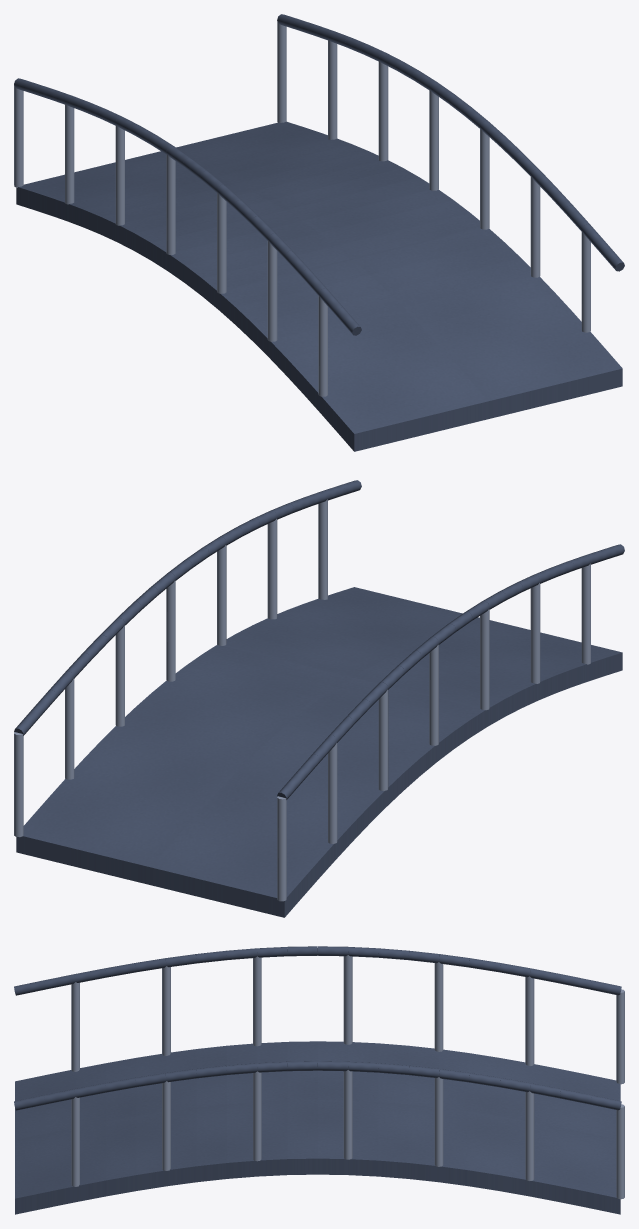
File: bridge-stone.glb
The picture shows the model from 3 angles, top to bottom: view 1: azimuth 30°, elevation 25°; view 2: azimuth 150°, elevation 25°; view 3: azimuth 270°, elevation 25°; orthographic projection. The views are drawn at different scales.
Visible parts, largest first — view 1: bridge-stone_stone, bridge-stone_edge; view 2: bridge-stone_stone, bridge-stone_edge; view 3: bridge-stone_stone, bridge-stone_edge.
Boxes of the visible parts, x1,y1,x2,y2 form: bridge-stone_stone: (14,14,624,451); bridge-stone_edge: (14,21,590,396); bridge-stone_stone: (14,480,624,917); bridge-stone_edge: (14,499,590,901); bridge-stone_stone: (14,946,621,1214); bridge-stone_edge: (71,955,624,1199).
Size of the model in its own units: 2.24 by 1.33 by 4.84.
2 materials, 1 textured.
